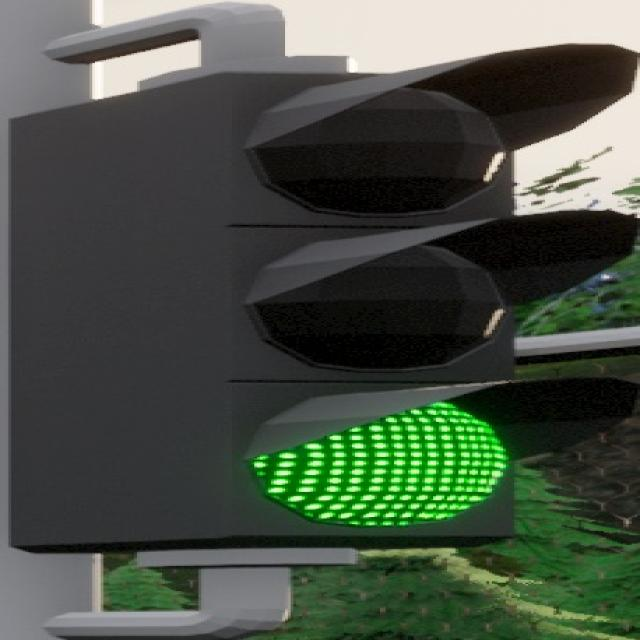green_light: (0, 52, 640, 554)
